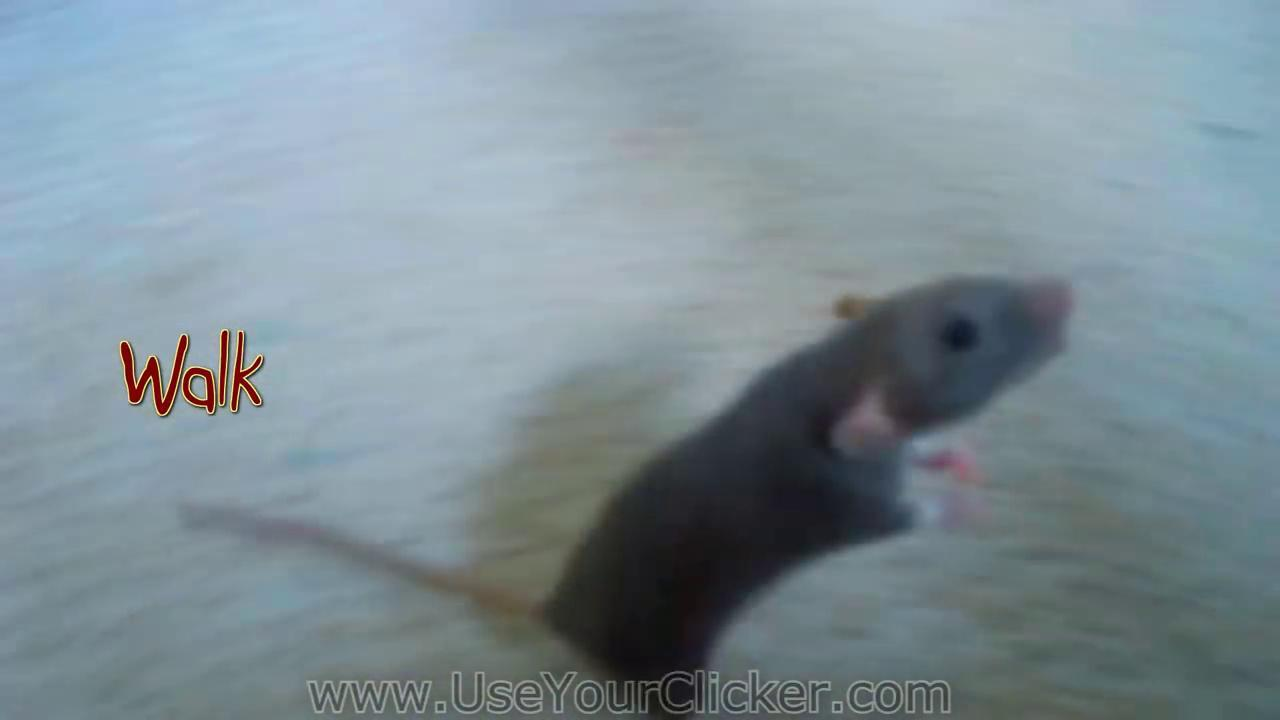rat: (186, 278, 1076, 718)
